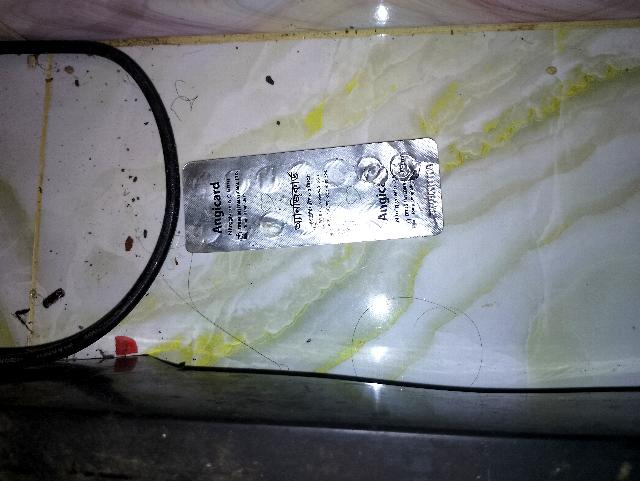medicine: (177, 147, 450, 239)
